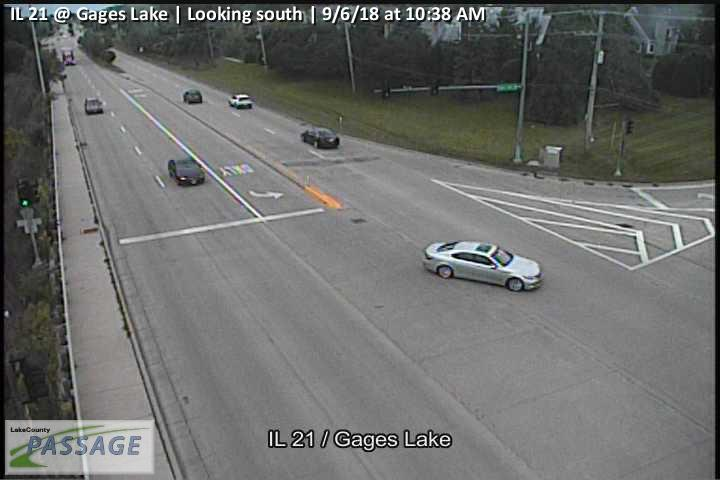SUV: (85, 97, 104, 114), (183, 89, 203, 103)
Sedan: (422, 240, 543, 292), (168, 157, 206, 185), (300, 127, 340, 148), (228, 93, 253, 109)
